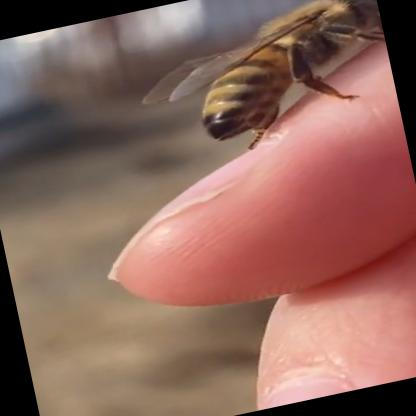bee: (132, 0, 410, 211)
